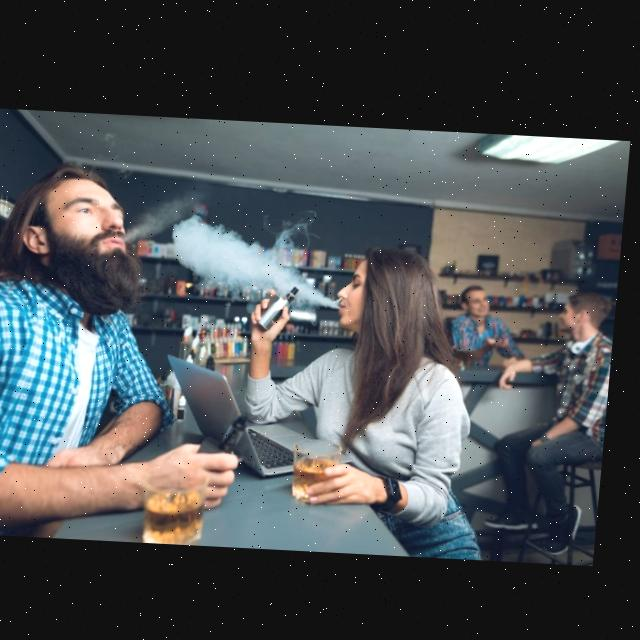vape: (205, 410, 255, 459), (261, 281, 304, 328)
